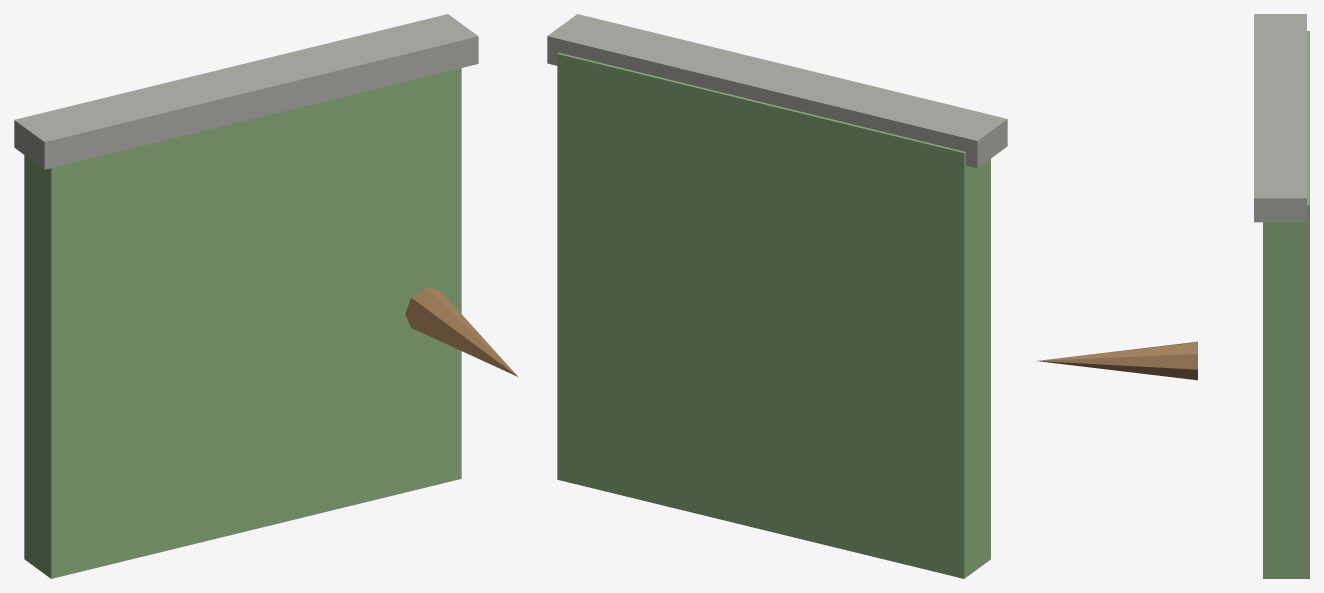
File: 21_CocGo.glb
3 renders of one model, left to right at view 1: azimuth 30°, elevation 25°; view 2: azimuth 150°, elevation 25°; view 3: azimuth 270°, elevation 25°, orthographic. The views are drawn at different scales.
Parts seen in each view (by area): view 1: base, edge, stake; view 2: base, edge; view 3: base, edge, stake.
Boxes of the visible parts, x1,y1,x2,y2 form: base: [24, 68, 461, 578]; edge: [14, 14, 478, 169]; stake: [405, 288, 517, 376]; base: [557, 52, 990, 578]; edge: [547, 14, 1007, 168]; base: [1263, 31, 1309, 578]; edge: [1254, 14, 1306, 222]; stake: [1037, 341, 1197, 380].
Size of the model in its own units: 1.48 by 1.44 by 0.93.
